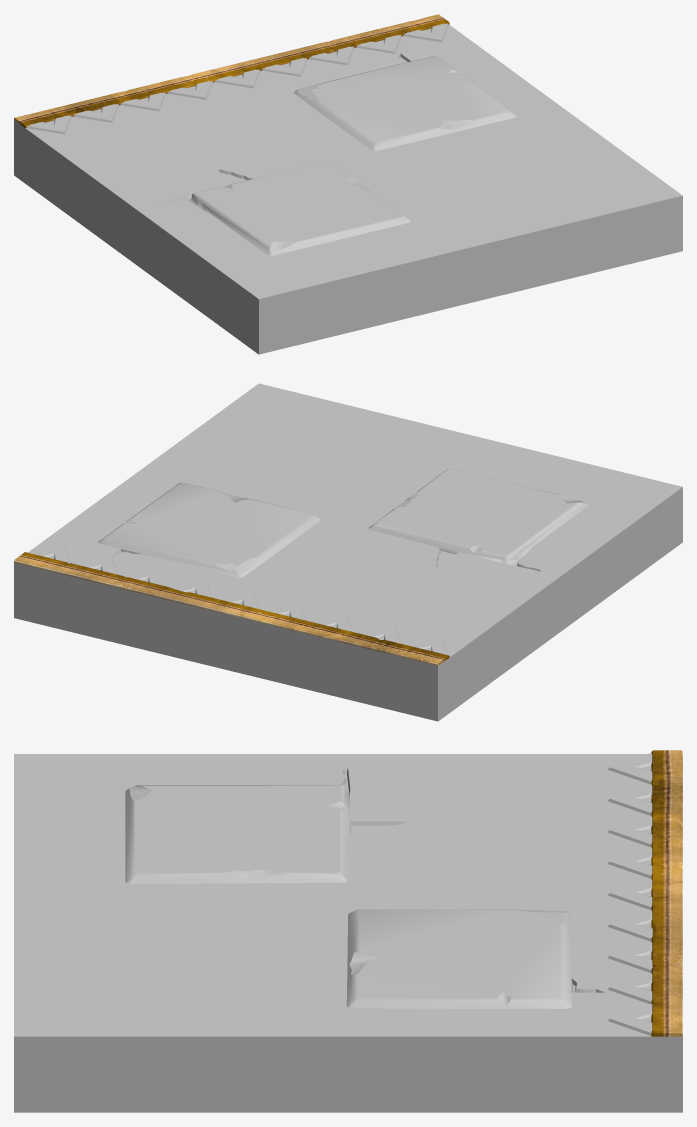
The picture shows the model from 3 angles, top to bottom: view 1: azimuth 30°, elevation 25°; view 2: azimuth 150°, elevation 25°; view 3: azimuth 270°, elevation 25°; orthographic projection. The views are drawn at different scales.
Visible parts, largest first — view 1: SM_Vault_4m_Floor_01_v2_LOD0; view 2: SM_Vault_4m_Floor_01_v2_LOD0; view 3: SM_Vault_4m_Floor_01_v2_LOD0.
Boxes of the visible parts, x1,y1,x2,y2 form: SM_Vault_4m_Floor_01_v2_LOD0: [14, 14, 682, 354]; SM_Vault_4m_Floor_01_v2_LOD0: [14, 383, 682, 721]; SM_Vault_4m_Floor_01_v2_LOD0: [14, 750, 682, 1112].
Bounding box in the file's own units: 4 × 0.543 × 4.
